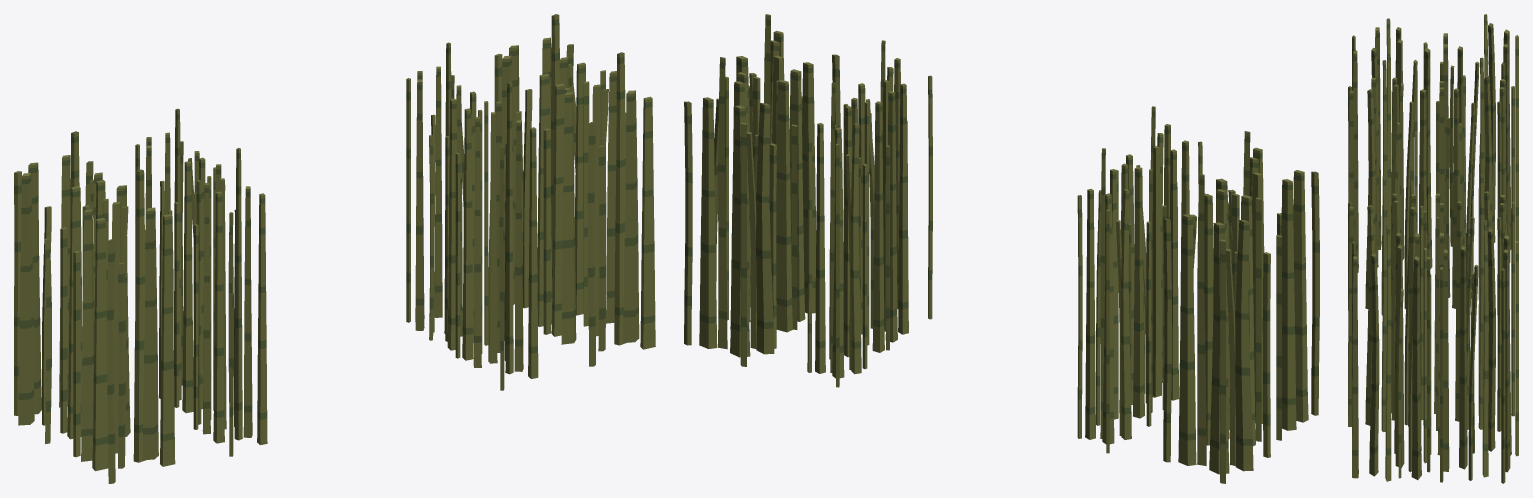
The model's file is side_bamboos_far.glb.
The picture shows the model from 3 angles, left to right: view 1: azimuth 30°, elevation 25°; view 2: azimuth 150°, elevation 25°; view 3: azimuth 270°, elevation 25°; orthographic projection. The views are drawn at different scales.
Visible parts, largest first — view 1: bamboos.002; view 2: bamboos.002; view 3: bamboos.002.
Boxes of the visible parts, box(x1,y1,x2,y2) form: bamboos.002: box(14, 14, 655, 483); bamboos.002: box(684, 14, 1319, 483); bamboos.002: box(1348, 14, 1518, 483).
Size of the model in its own units: 24.01 by 11.8 by 7.19.
